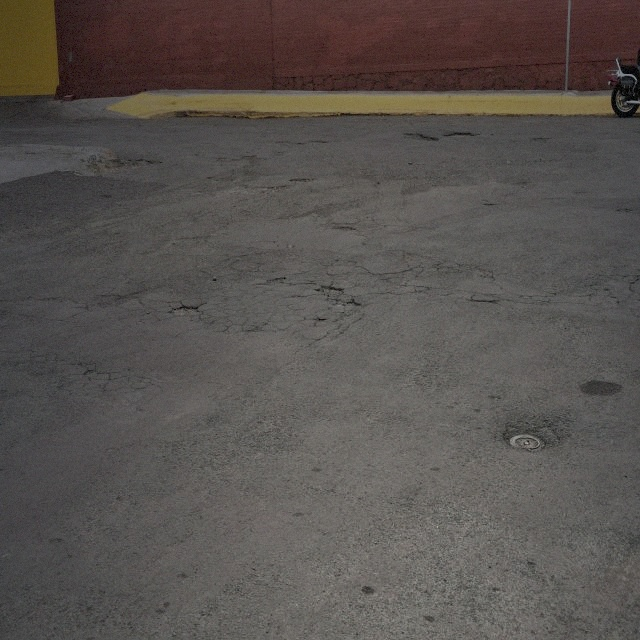pothole: (169, 300, 200, 317), (120, 157, 157, 169), (405, 132, 437, 144), (320, 282, 342, 295), (447, 129, 474, 139)
